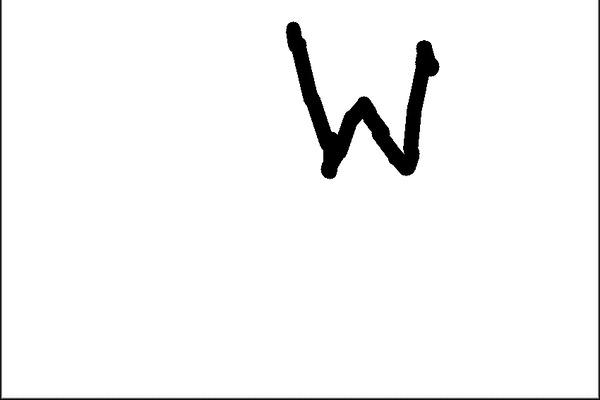w: (275, 6, 448, 205)
